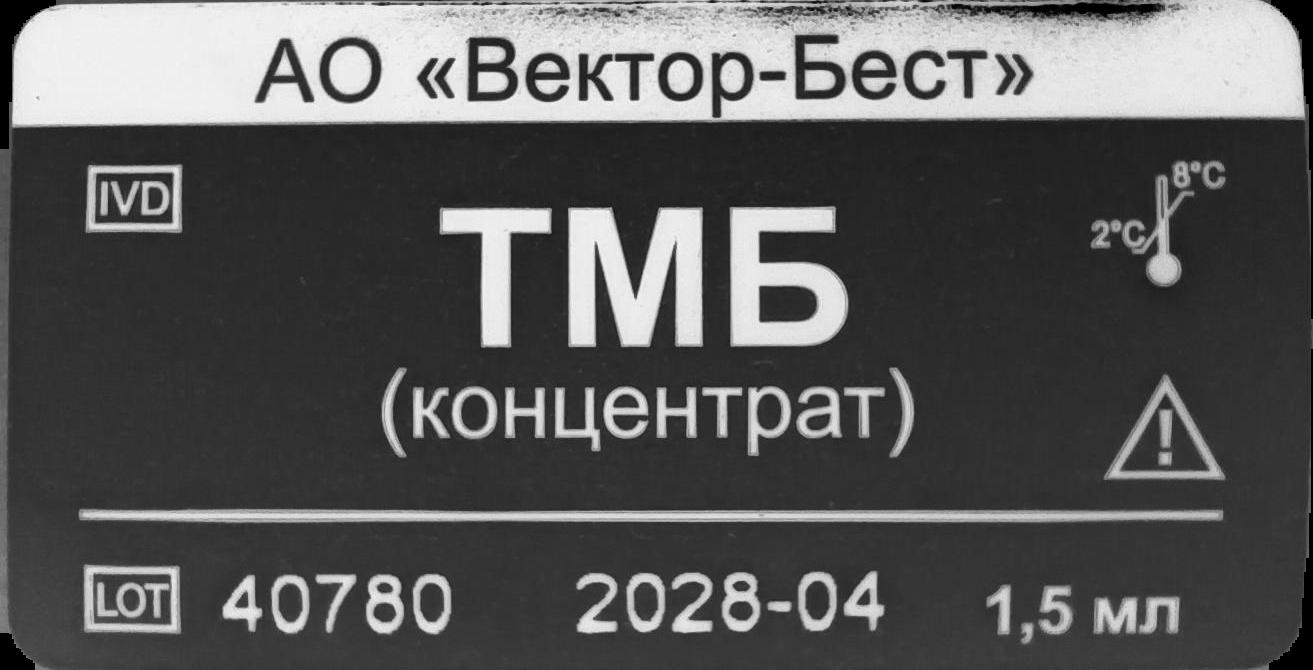something: (1089, 155, 1235, 295), (1104, 372, 1229, 489), (80, 160, 186, 236), (78, 562, 181, 635)
text: (375, 188, 917, 459), (250, 26, 1041, 120), (572, 568, 887, 637), (220, 569, 455, 638), (983, 585, 1181, 641)
